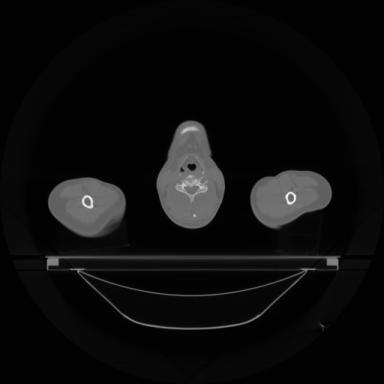body: (157, 121, 225, 228), (250, 170, 332, 228), (49, 178, 126, 237)
cord: (181, 179, 203, 201)
